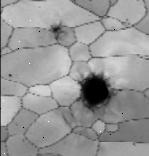good_void: (73, 71, 118, 118), (46, 20, 68, 46), (8, 72, 12, 78)
